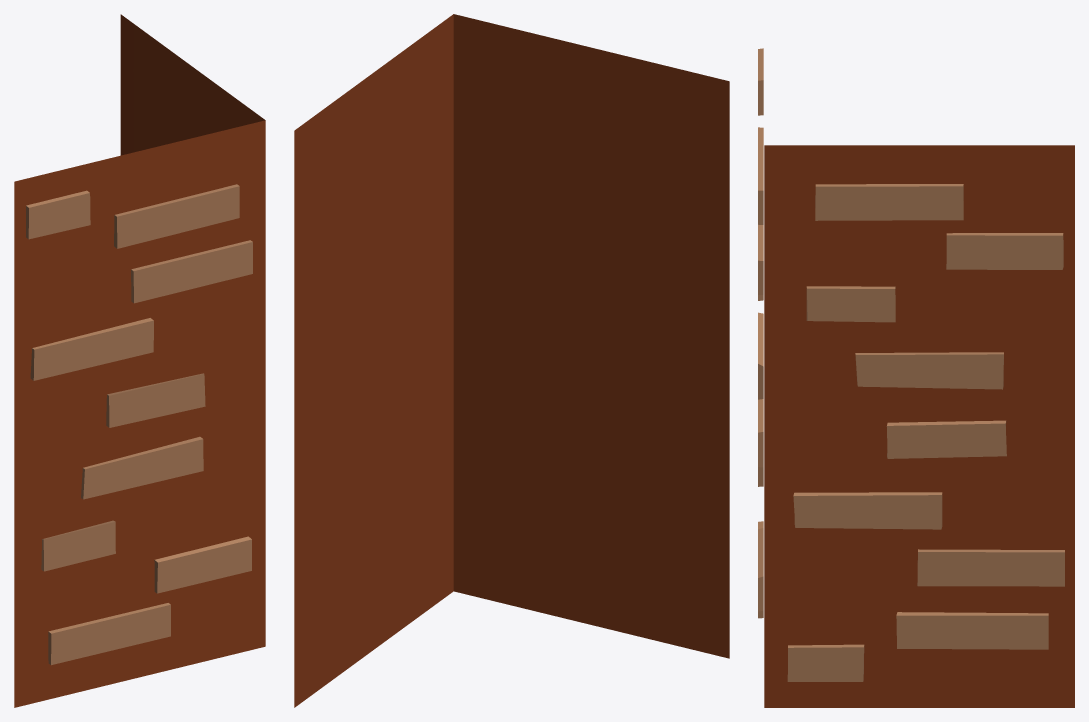
Rendered from Ext-BrickV2Corner.fbx.
3 views of the same model, side by side, from view 1: azimuth 30°, elevation 25°; view 2: azimuth 150°, elevation 25°; view 3: azimuth 270°, elevation 25° (orthographic). The views are drawn at different scales.
Visible parts, largest first — view 1: Ext-BrickV2Corner; view 2: Ext-BrickV2Corner; view 3: Ext-BrickV2Corner.
Boxes of the visible parts, bbox=[...] form: Ext-BrickV2Corner: bbox=[14, 14, 265, 707]; Ext-BrickV2Corner: bbox=[294, 14, 729, 707]; Ext-BrickV2Corner: bbox=[758, 48, 1074, 707].
Bounding box in the file's own units: 102 × 200 × 102.
